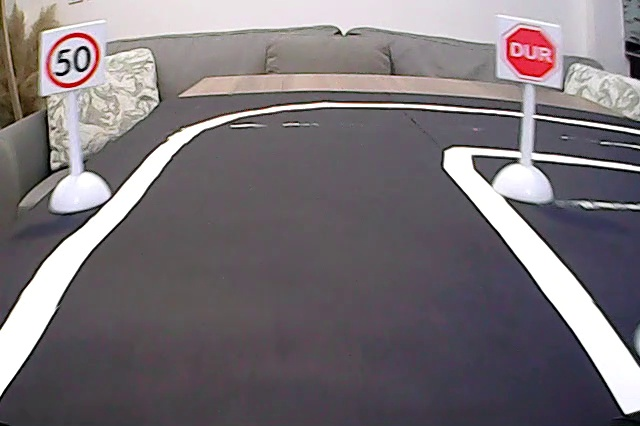speed limit 50: (41, 31, 105, 90)
stop sign: (500, 18, 564, 85)
